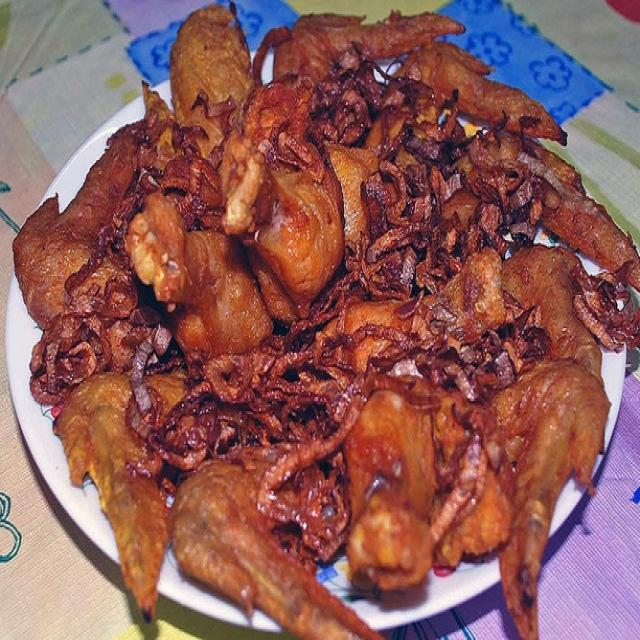Deep fried chicken wing: (36, 44, 616, 602)
